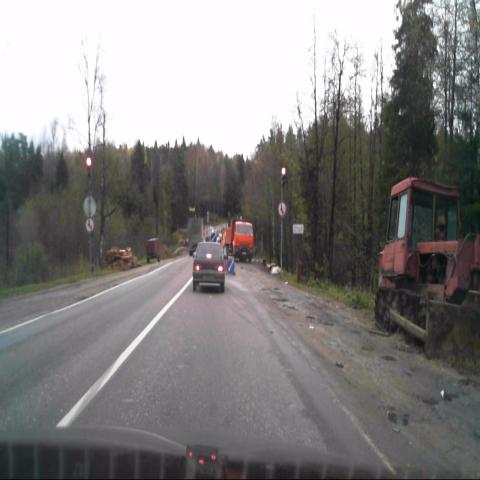2_6: (84, 217, 94, 232), (278, 201, 286, 217)
4_2_2: (226, 259, 234, 274)
